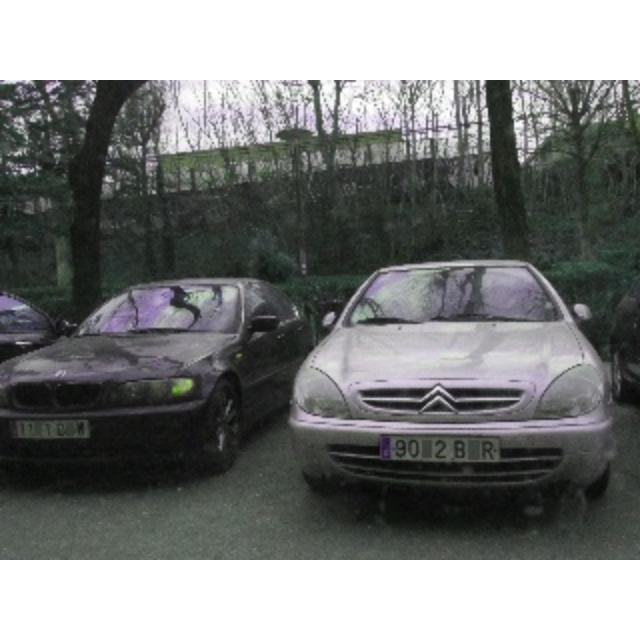car: (288, 262, 610, 500), (3, 281, 287, 483)
plate: (382, 438, 498, 462), (11, 421, 89, 437)
